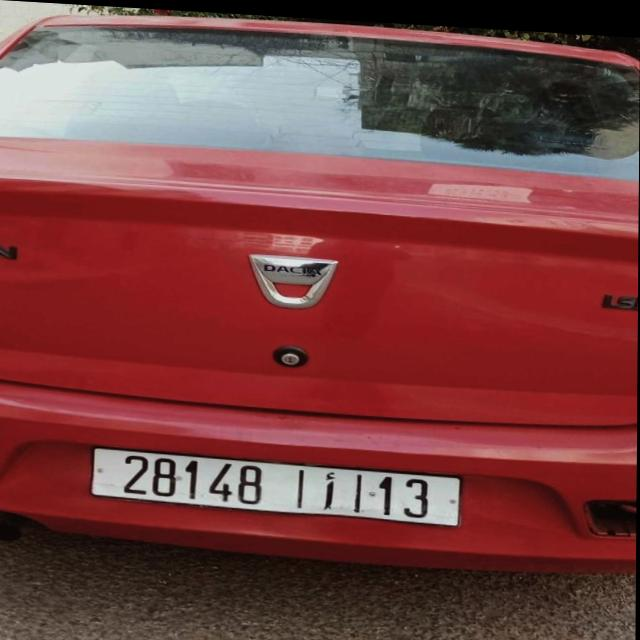License-Plate: (93, 446, 462, 521)
